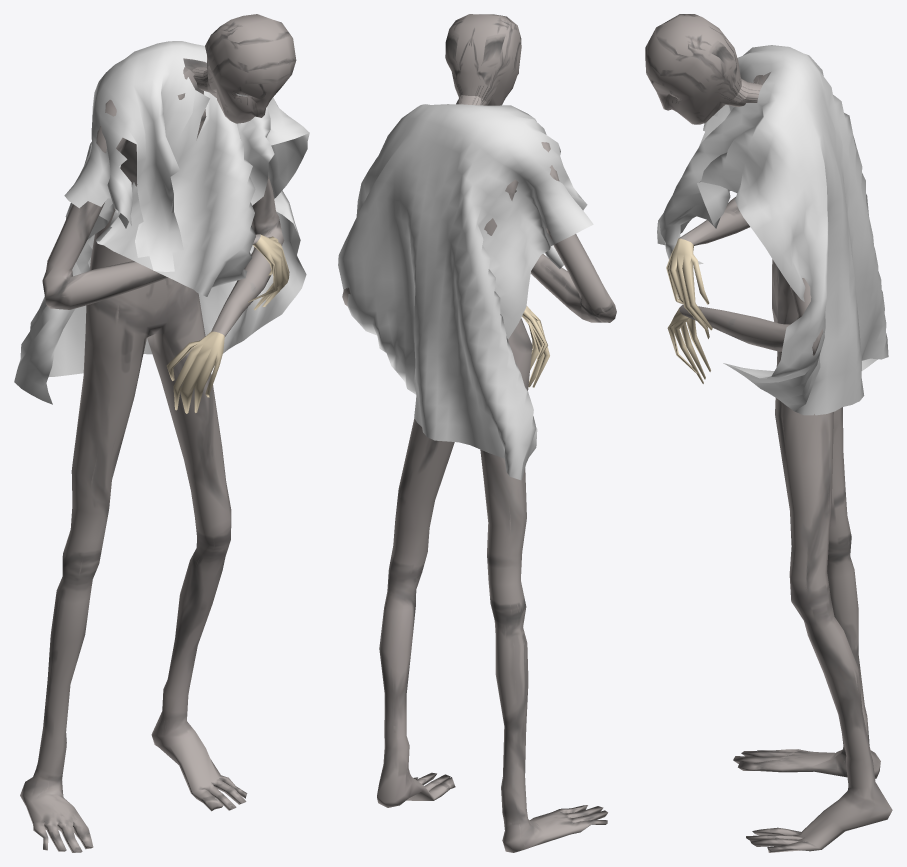
File: Blender_2.81.fbx
The picture shows the model from 3 angles, left to right: view 1: azimuth 30°, elevation 25°; view 2: azimuth 150°, elevation 25°; view 3: azimuth 270°, elevation 25°; orthographic projection. The views are drawn at different scales.
Visible parts, largest first — view 1: body, cap, head; view 2: cap, body, head; view 3: cap, body, head.
Part boxes in pixels (x1,y1,x2,y2): body: (20, 58, 289, 852); cap: (14, 41, 309, 404); head: (192, 14, 296, 123); cap: (338, 104, 593, 480); body: (342, 142, 616, 852); head: (445, 14, 521, 105); cap: (657, 45, 888, 415); body: (666, 72, 892, 852); head: (645, 14, 762, 124).
Bounding box in the file's own units: 1.14 × 3.23 × 0.8879.
